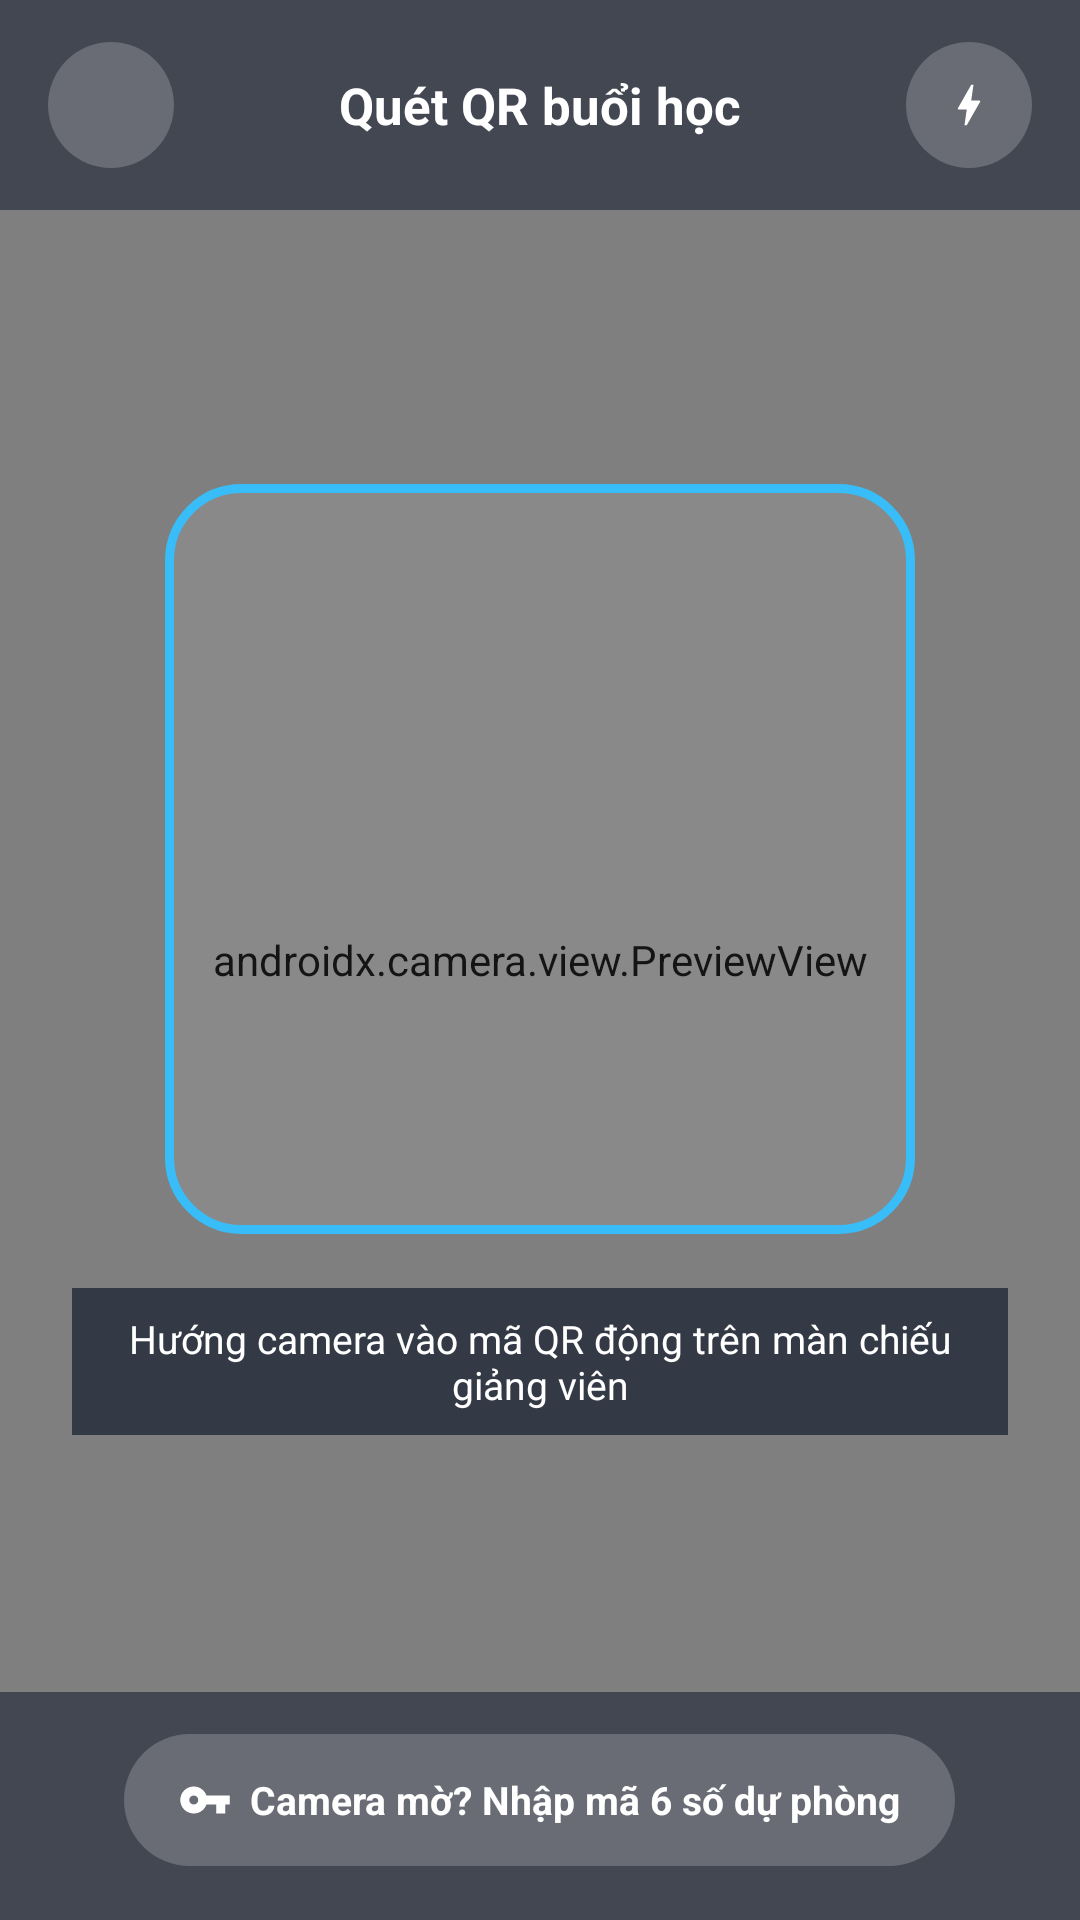

Icon bounding boxes for this 1080px×1920px phone screenshot, format (x1=x1, y1=y1, x2=x2, y2=y2):
Bật hoặc tắt đèn flash: (x1=906, y1=42, x2=1032, y2=168)
